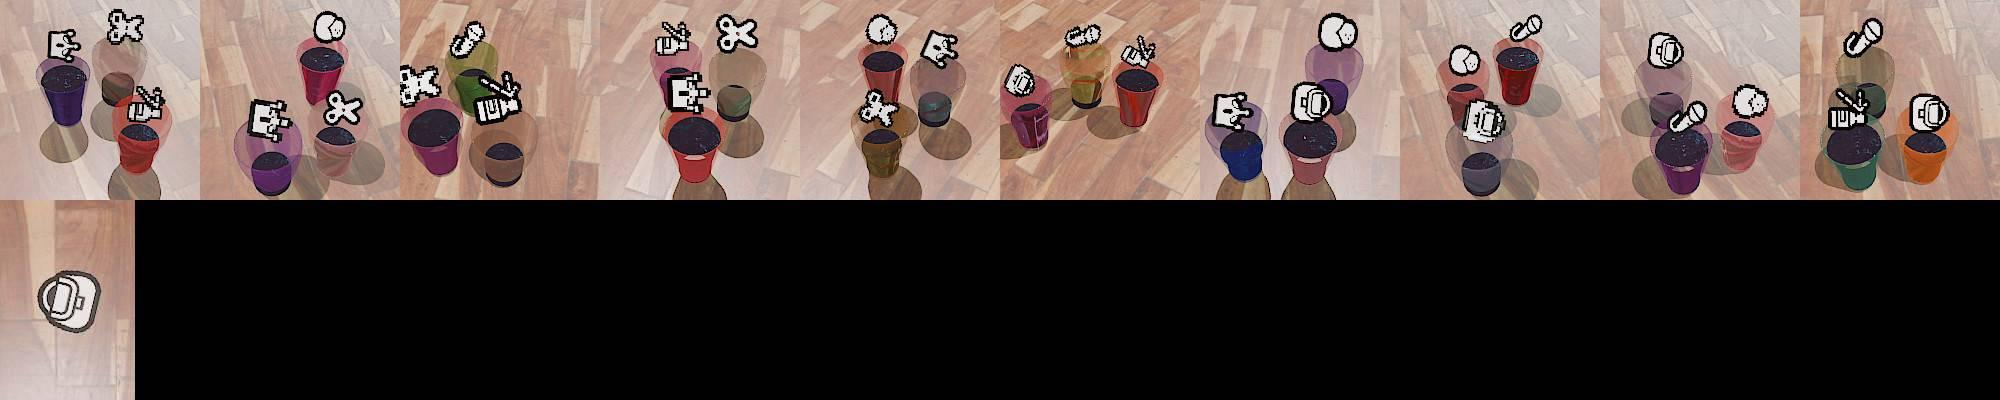icon: (36, 269, 102, 334), (474, 70, 524, 124), (1460, 97, 1506, 145), (247, 97, 293, 141), (1827, 87, 1870, 130), (399, 62, 441, 107), (714, 13, 759, 55), (1291, 80, 1333, 124), (667, 73, 710, 113), (1908, 93, 1952, 134), (1210, 90, 1250, 131), (920, 28, 959, 69), (858, 88, 899, 127), (1844, 18, 1884, 59), (1316, 13, 1357, 51), (323, 89, 365, 126), (128, 84, 167, 122), (654, 18, 693, 57), (106, 8, 145, 46), (1648, 31, 1685, 70), (449, 20, 486, 59), (1120, 34, 1158, 69), (1668, 99, 1708, 132), (47, 27, 82, 64), (1732, 84, 1769, 118), (312, 10, 347, 45), (1062, 22, 1103, 50), (1004, 64, 1037, 97), (865, 14, 899, 46), (1448, 45, 1481, 75), (1510, 14, 1543, 42)
